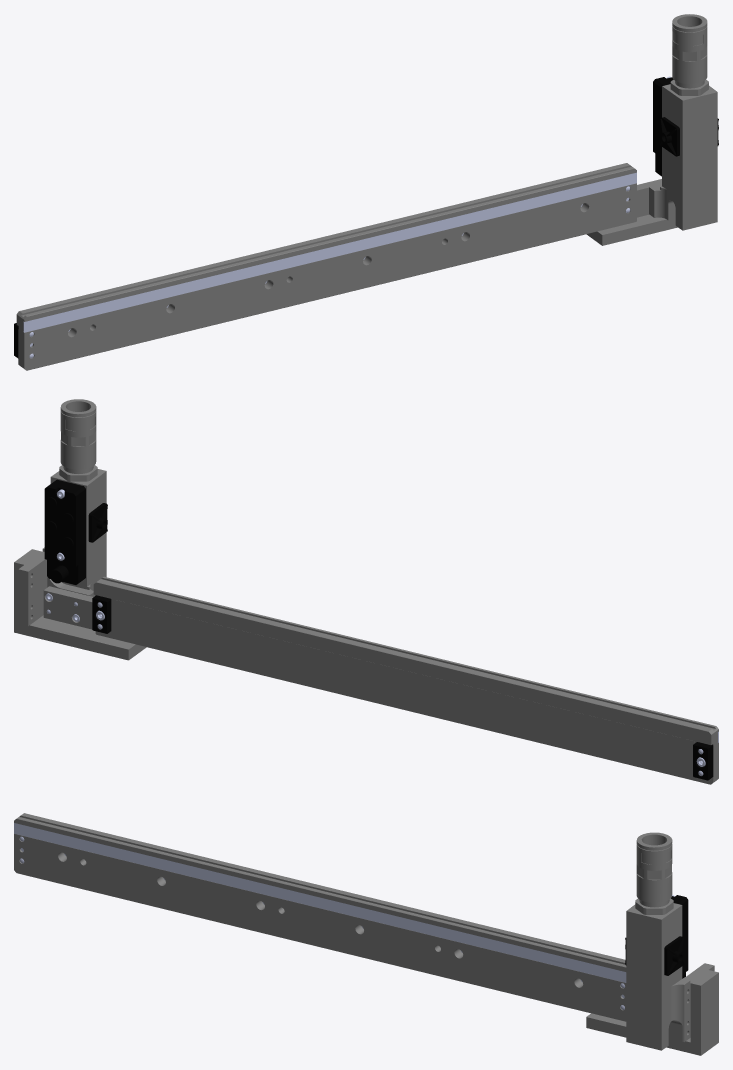
File: Robotic_Arm_Floating_X.obj
3 renders of one model, top to bottom at view 1: azimuth 30°, elevation 25°; view 2: azimuth 150°, elevation 25°; view 3: azimuth 330°, elevation 25°, orthographic.
Visible parts, largest first — view 1: Estrusione_Sottile1 Corpo137 Corpo33 Corpo105 Corpo124, Corpo126, Corpo113 Corpo5 Corpo31 Corpo80 Corpo7; view 2: Estrusione_Sottile1 Corpo137 Corpo33 Corpo105 Corpo124, Corpo113 Corpo5 Corpo31 Corpo80 Corpo7; view 3: Estrusione_Sottile1 Corpo137 Corpo33 Corpo105 Corpo124, Corpo126, Corpo113 Corpo5 Corpo31 Corpo80 Corpo7.
Boxes of the visible parts, x1=… form: Estrusione_Sottile1 Corpo137 Corpo33 Corpo105 Corpo124: x1=16, y1=14, x2=717, y2=370; Corpo126: x1=23, y1=172, x2=636, y2=332; Corpo113 Corpo5 Corpo31 Corpo80 Corpo7: x1=14, y1=77, x2=718, y2=358; Estrusione_Sottile1 Corpo137 Corpo33 Corpo105 Corpo124: x1=14, y1=399, x2=718, y2=784; Corpo113 Corpo5 Corpo31 Corpo80 Corpo7: x1=44, y1=479, x2=713, y2=780; Estrusione_Sottile1 Corpo137 Corpo33 Corpo105 Corpo124: x1=14, y1=813, x2=718, y2=1055; Corpo126: x1=14, y1=823, x2=626, y2=982; Corpo113 Corpo5 Corpo31 Corpo80 Corpo7: x1=625, y1=895, x2=688, y2=978.
Bounding box in the file's own units: 664 × 196 × 74.
